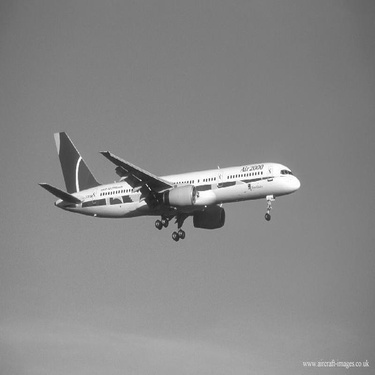airplane: (19, 116, 315, 255)
